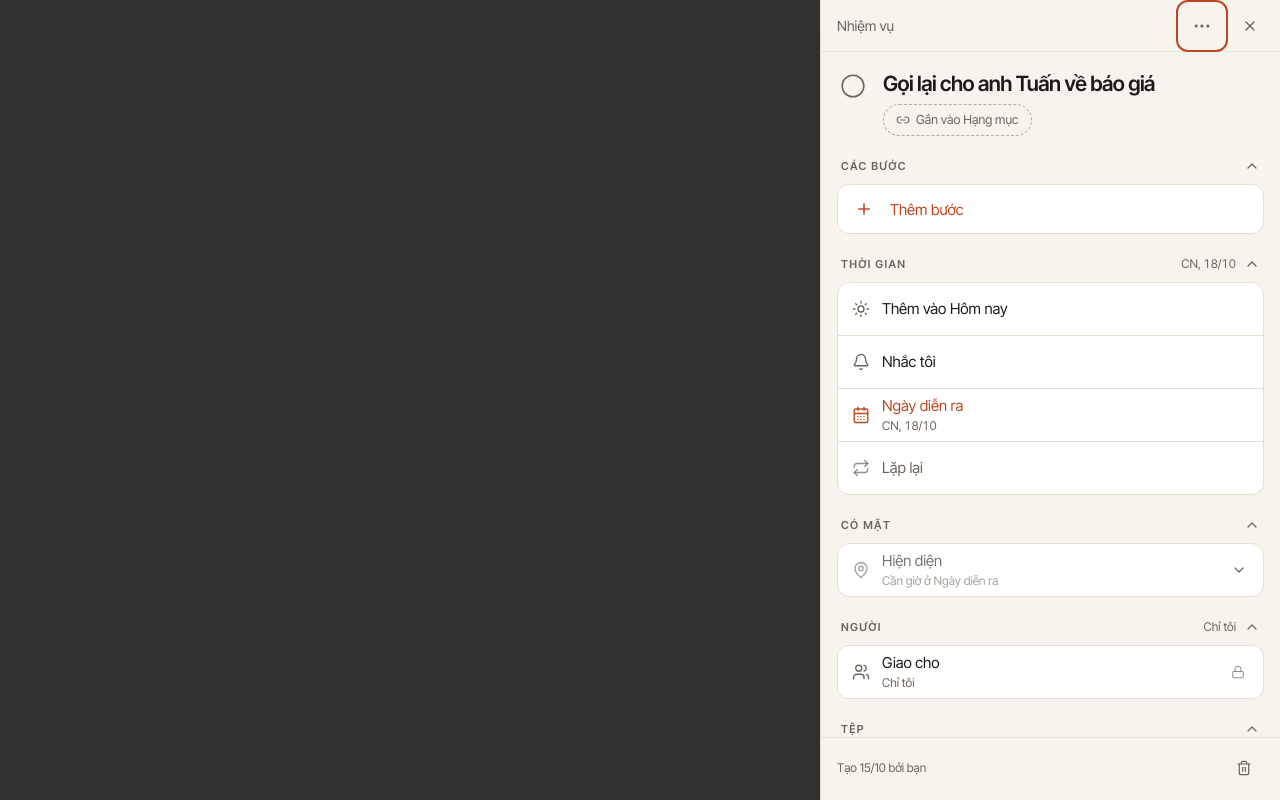
Test case: T.9 · chọn ngày: lịch mở trong thẻ, không lớp nổi
Click the button "Ngày diễn ra CN, 18/10".
click(923, 406)  # box [838,389,1263,441]
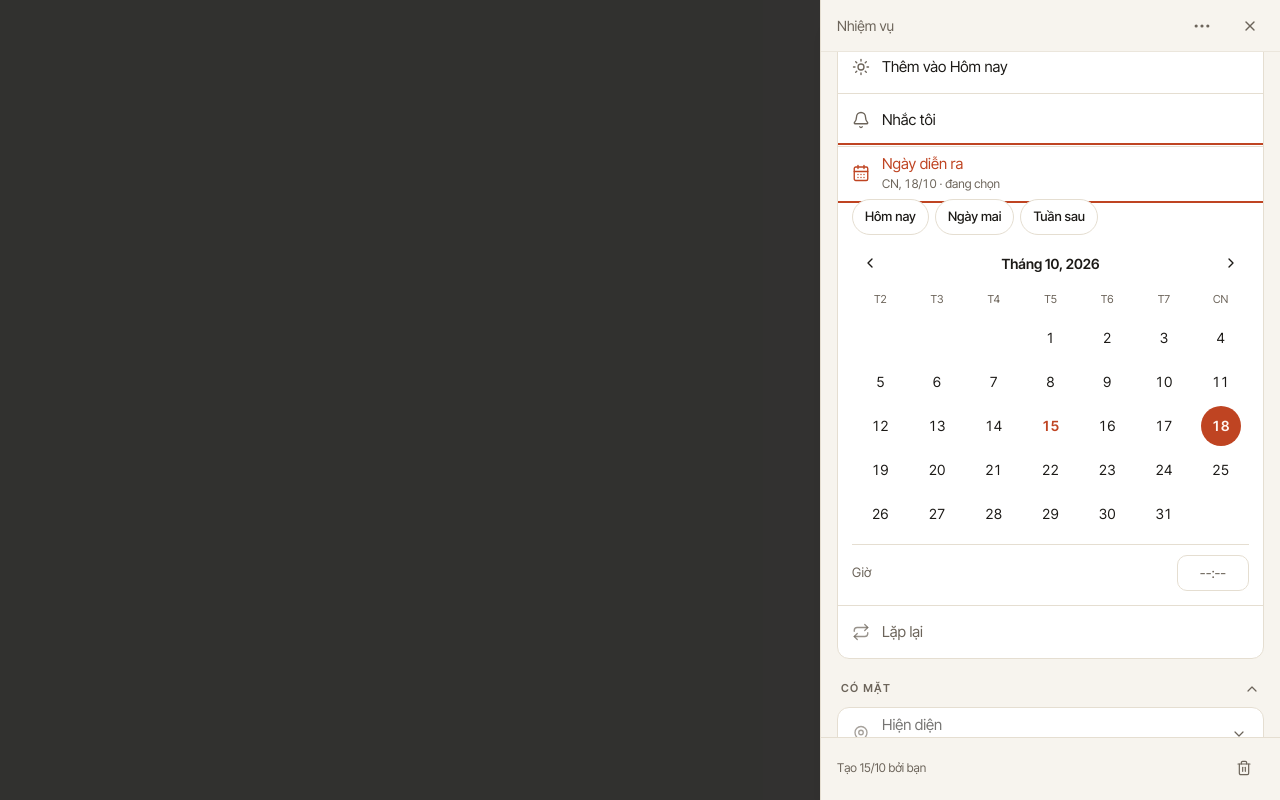
Expected: the number of dialogs is 1, [820,0,1279,799]
Now the element named "Chọn ngày diễn ra" is shown, box [852,199,1249,590]
